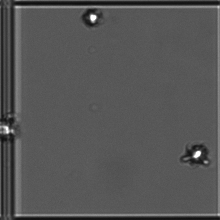Living Cell: (184, 139, 209, 169), (82, 10, 110, 35), (1, 117, 19, 140)
